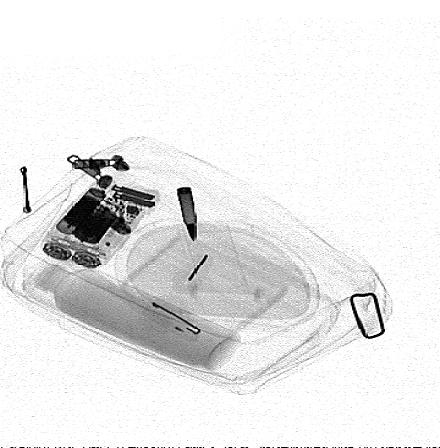Bullet: (176, 187, 198, 243)
